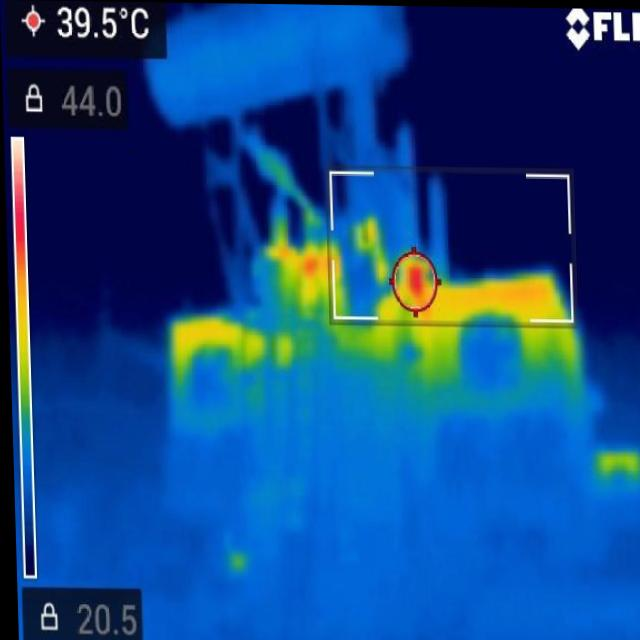Potentially Faulty: (397, 251, 443, 307), (299, 250, 320, 279)
